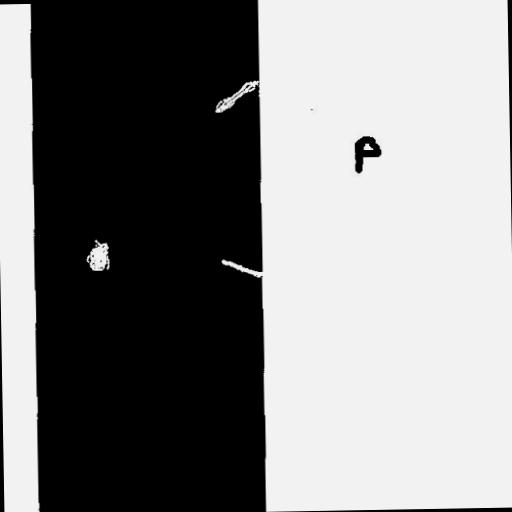copper: (346, 128, 388, 181)
mousebite: (206, 72, 267, 120), (213, 250, 273, 286)
pin-hole: (78, 232, 117, 278)
